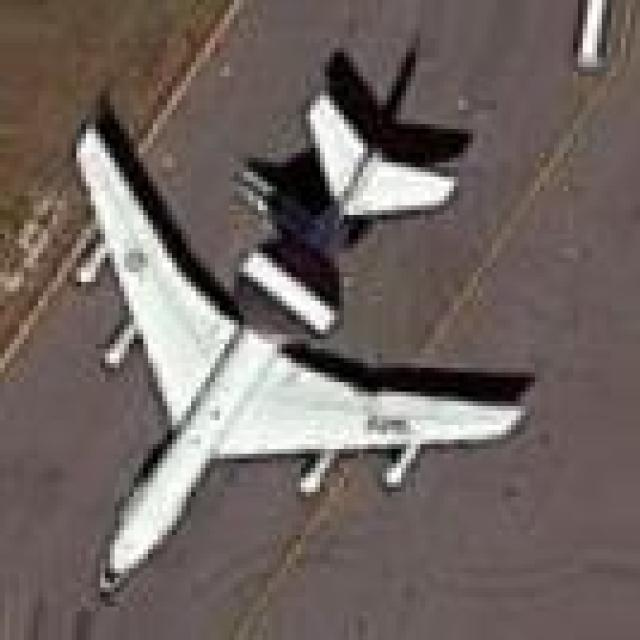E-3_TopDown: (59, 39, 540, 602)
